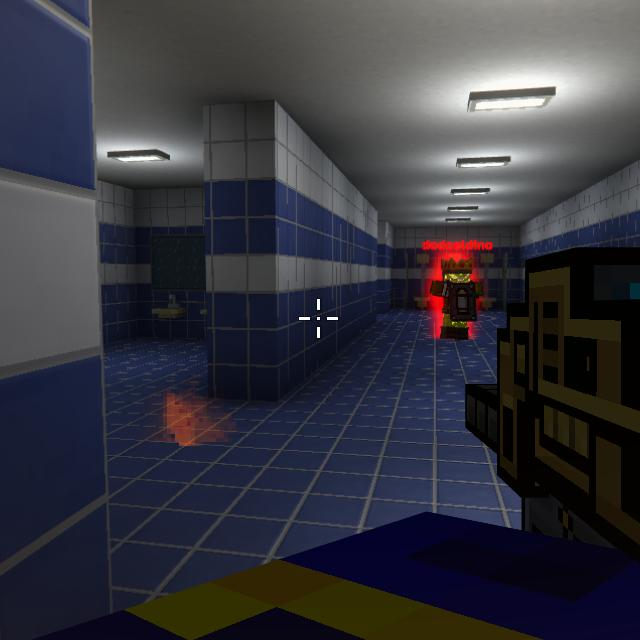Enemy: (432, 255, 484, 340)
